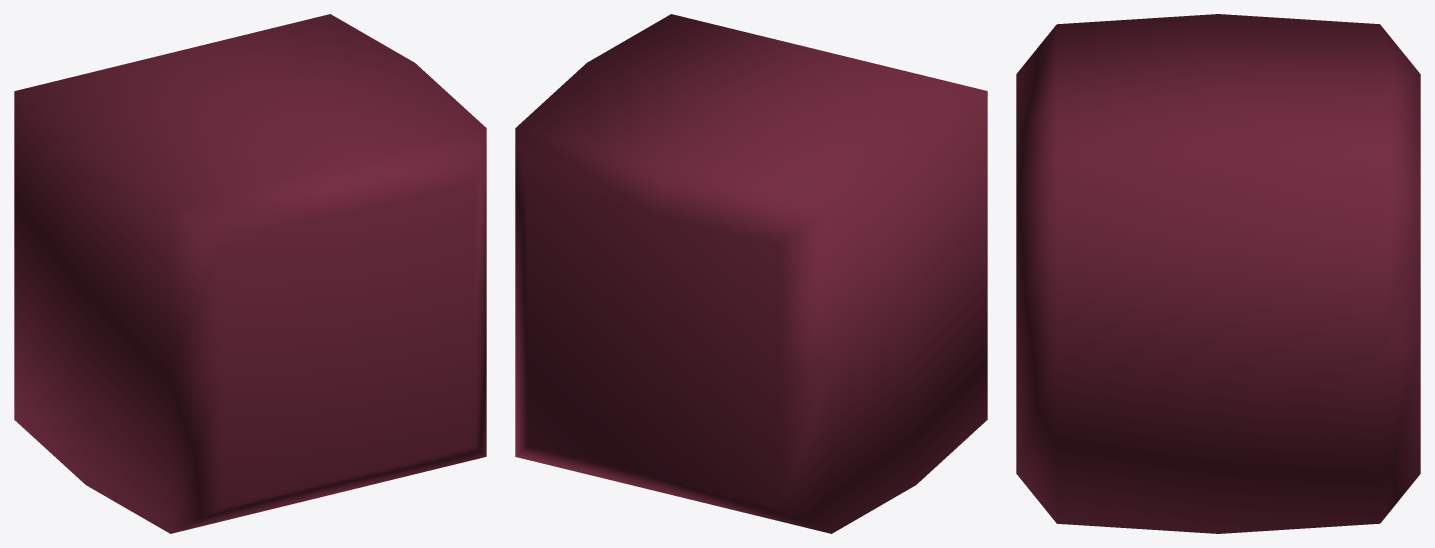
The model's file is DMJ_RightFist.fbx.
3 views of the same model, side by side, from view 1: azimuth 30°, elevation 25°; view 2: azimuth 150°, elevation 25°; view 3: azimuth 270°, elevation 25° (orthographic). The views are drawn at different scales.
Parts seen in each view (by area): view 1: R_Fist1; view 2: R_Fist1; view 3: R_Fist1.
Boxes of the visible parts, x1=… form: R_Fist1: x1=14, y1=14, x2=486, y2=533; R_Fist1: x1=515, y1=14, x2=987, y2=533; R_Fist1: x1=1016, y1=14, x2=1420, y2=533.
Size of the model in its own units: 31.83 by 31.57 by 32.71.
